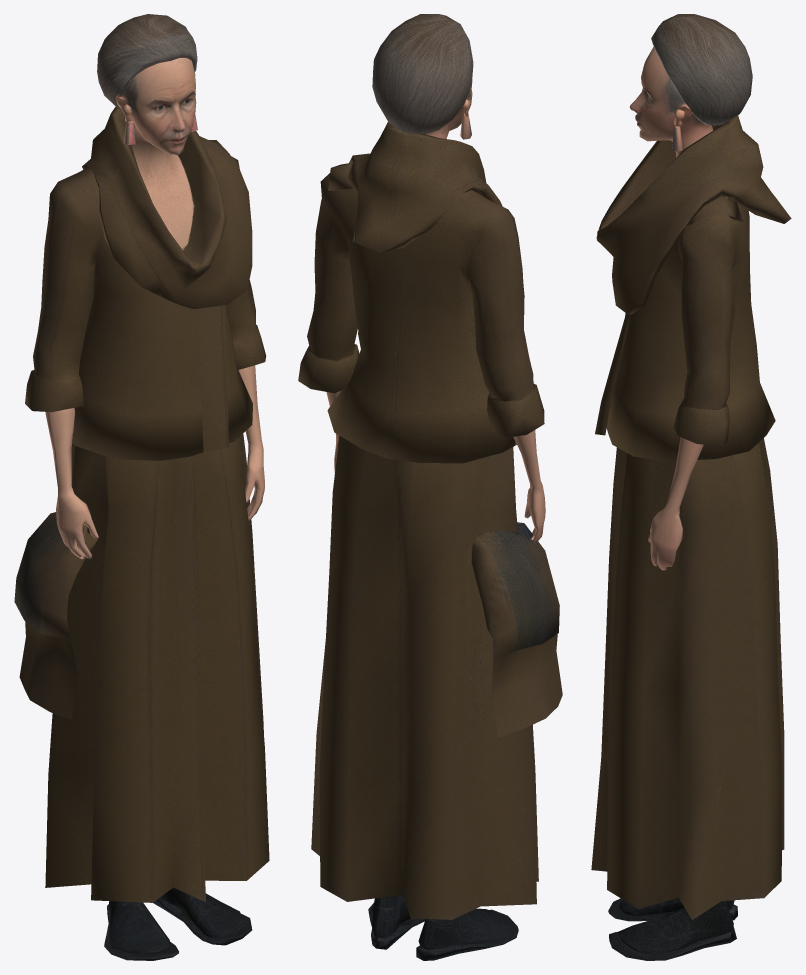
Rendered from woman.glb.
The picture shows the model from 3 angles, left to right: view 1: azimuth 30°, elevation 25°; view 2: azimuth 150°, elevation 25°; view 3: azimuth 270°, elevation 25°; orthographic projection.
Size of the model in its own units: 0.4528 by 1.65 by 0.3306.
1 material, 1 textured.
